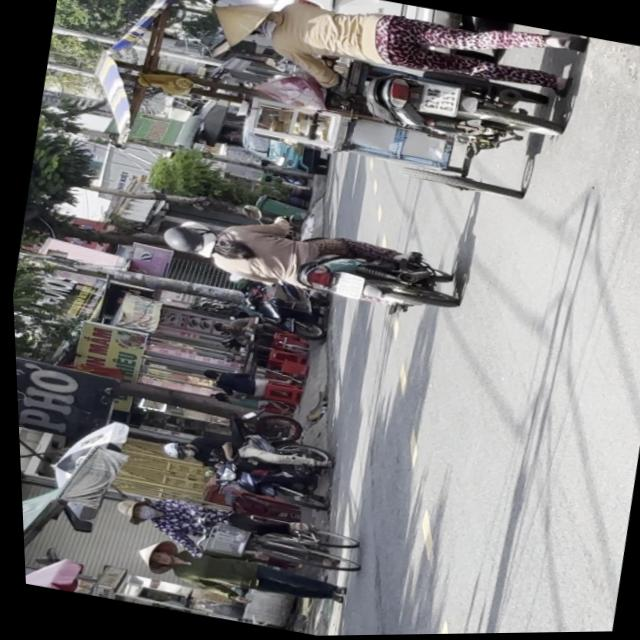helmet: (155, 221, 214, 261)
licenseplate: (147, 198, 463, 331)
nohelmet: (417, 84, 458, 119), (330, 272, 363, 302)
